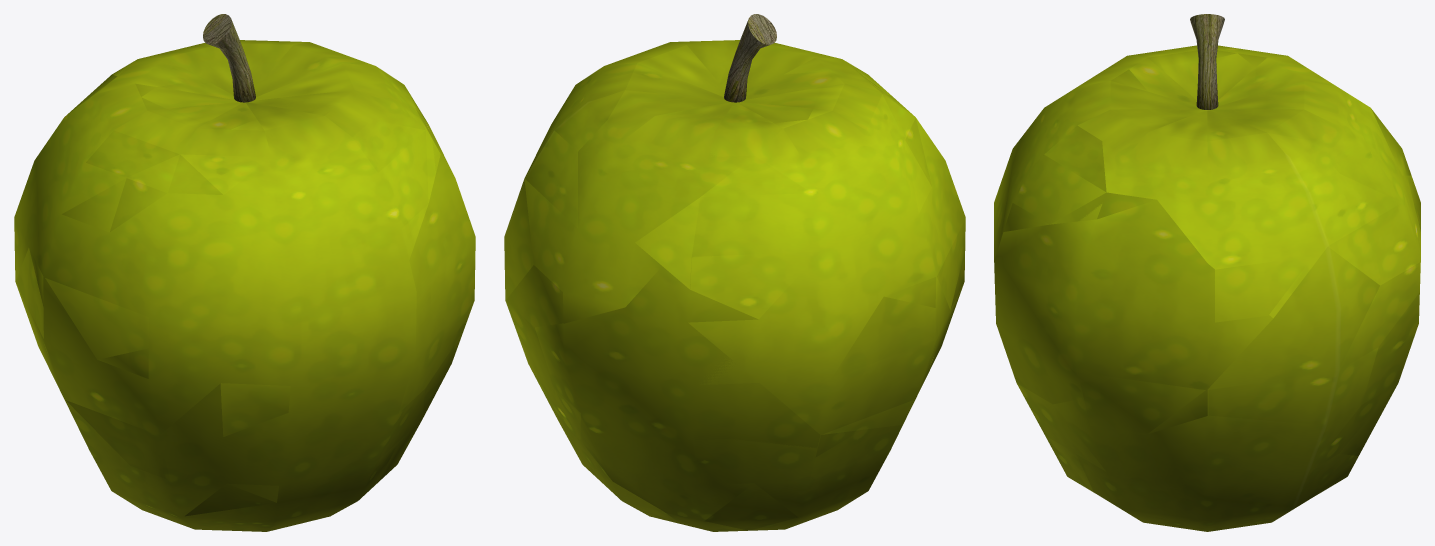
Rendered from Apple.fbx.
The picture shows the model from 3 angles, left to right: view 1: azimuth 30°, elevation 25°; view 2: azimuth 150°, elevation 25°; view 3: azimuth 270°, elevation 25°; orthographic projection. The views are drawn at different scales.
Parts seen in each view (by area): view 1: AppleWhole, AppleChunk9, AppleChunk1, AppleChunk2, AppleChunk7, AppleChunk5, AppleChunk, AppleChunk8, AppleChunk3, AppleStalk, AppleChunk6, AppleChunk13 (+3 smaller); view 2: AppleWhole, AppleChunk14, AppleChunk6, AppleChunk5, AppleChunk7, AppleChunk13, AppleChunk11, AppleChunk12, AppleChunk3, AppleChunk1, AppleStalk, AppleChunk; view 3: AppleWhole, AppleChunk9, AppleChunk13, AppleChunk7, AppleChunk6, AppleChunk14, AppleChunk8, AppleChunk3, AppleChunk, AppleStalk, AppleChunk5.
Boxes of the visible parts, x1,y1,x2,y2 form: AppleWhole: [14, 43, 440, 531]; AppleChunk9: [399, 108, 475, 412]; AppleChunk1: [29, 154, 290, 436]; AppleChunk2: [66, 348, 276, 516]; AppleChunk7: [265, 40, 427, 136]; AppleChunk5: [62, 74, 246, 232]; AppleChunk: [180, 102, 428, 259]; AppleChunk8: [352, 110, 439, 202]; AppleChunk3: [141, 87, 256, 123]; AppleStalk: [203, 14, 255, 102]; AppleChunk6: [112, 40, 291, 86]; AppleChunk13: [378, 333, 462, 482]; AppleWhole: [506, 43, 965, 530]; AppleChunk14: [535, 266, 860, 531]; AppleChunk6: [524, 90, 782, 323]; AppleChunk5: [635, 70, 931, 319]; AppleChunk7: [525, 40, 739, 176]; AppleChunk13: [504, 179, 680, 523]; AppleChunk11: [822, 296, 935, 434]; AppleChunk12: [704, 425, 902, 530]; AppleChunk3: [732, 73, 822, 122]; AppleChunk1: [883, 94, 965, 309]; AppleStalk: [724, 14, 776, 102]; AppleChunk: [746, 46, 891, 95]; AppleWhole: [994, 45, 1420, 492]; AppleChunk9: [994, 200, 1273, 443]; AppleChunk13: [1053, 247, 1379, 531]; AppleChunk7: [1077, 109, 1339, 318]; AppleChunk6: [1246, 57, 1420, 292]; AppleChunk14: [1339, 175, 1420, 455]; AppleChunk8: [1044, 125, 1156, 224]; AppleChunk3: [1142, 53, 1255, 106]; AppleChunk: [1003, 69, 1201, 231]; AppleStalk: [1190, 14, 1224, 109]; AppleChunk5: [1129, 50, 1411, 175].
Size of the model in its own units: 0.1428 by 0.1645 by 0.1344.
Materials: 2 (2 with a texture image).
